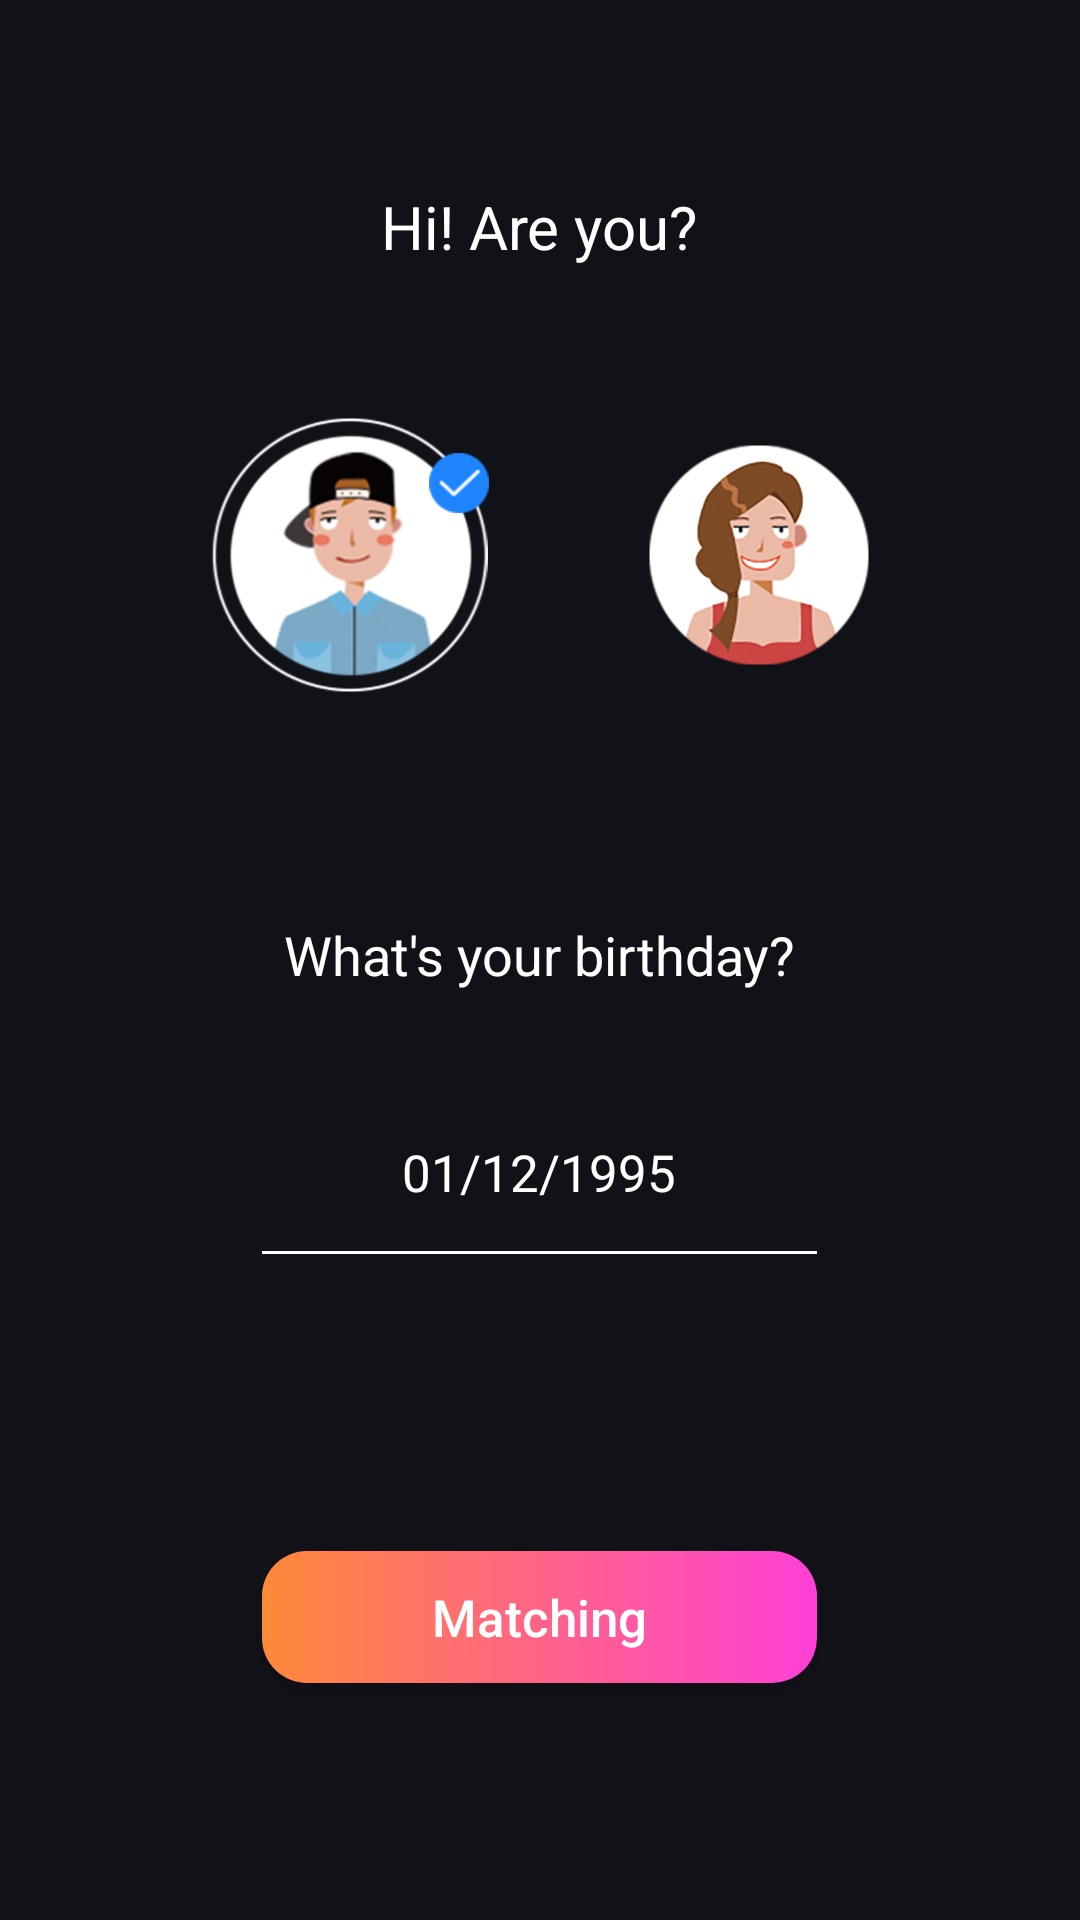

Where to tap for icons on this 1080 x 1920 app screen, as point (x, y):
checked male registration act: point (459, 483)
